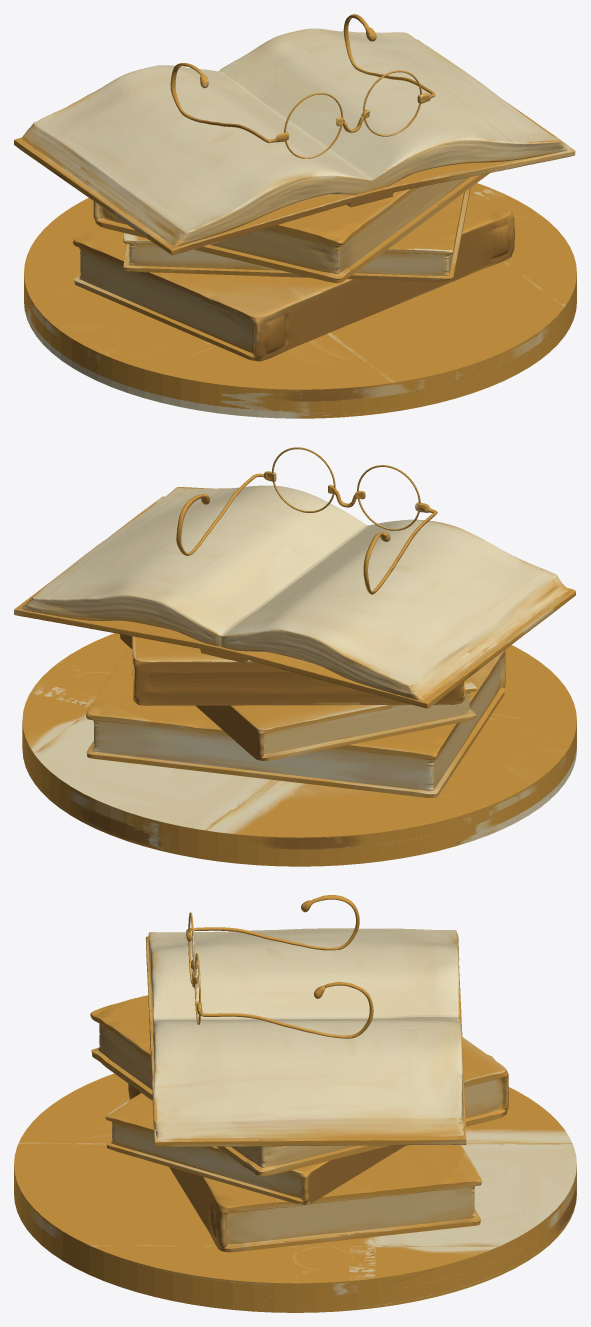
The model's file is archivistaA.fbx.
3 renders of one model, top to bottom at view 1: azimuth 30°, elevation 25°; view 2: azimuth 150°, elevation 25°; view 3: azimuth 270°, elevation 25°, orthographic.
Parts seen in each view (by area): view 1: Cube, base_Cylinder; view 2: Cube, base_Cylinder; view 3: Cube, base_Cylinder.
Boxes of the visible parts, x1=… form: Cube: x1=14, y1=14, x2=575, y2=361; base_Cylinder: x1=24, y1=183, x2=576, y2=418; Cube: x1=14, y1=447, x2=575, y2=797; base_Cylinder: x1=22, y1=633, x2=576, y2=866; Cube: x1=90, y1=895, x2=508, y2=1252; base_Cylinder: x1=14, y1=1073, x2=576, y2=1312.
Size of the model in its own units: 325 by 165 by 325.
Materials: 2 (2 with a texture image).
